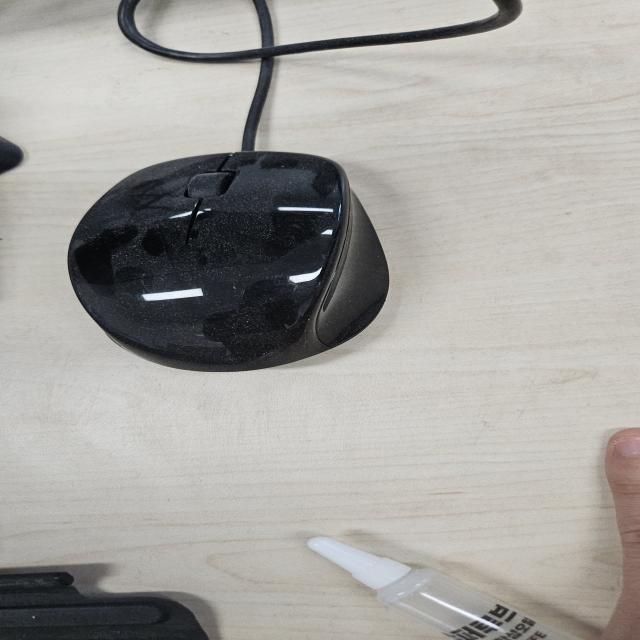Mouse: (65, 149, 393, 373)
